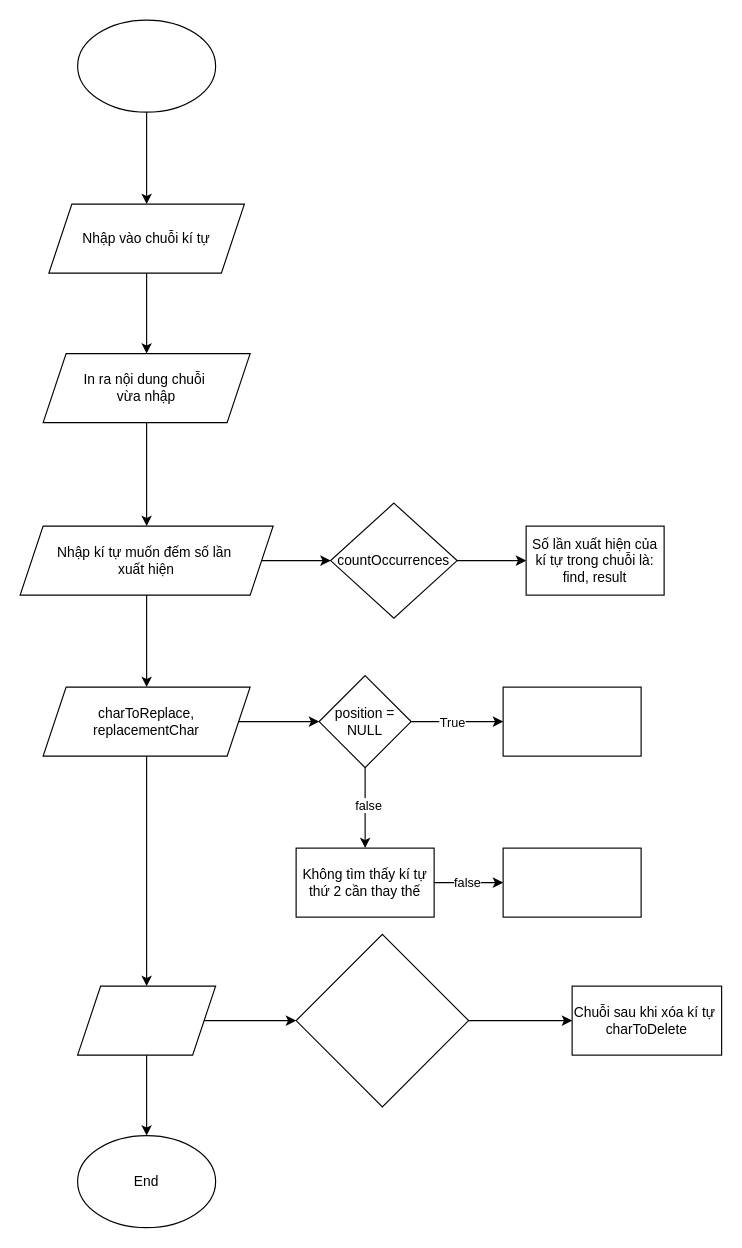
Image size: 742x1248. Some labels were removed from this diagram. Each missing label, with the centre of its shape:
"charToDelete" belongs at (146,1020).
"Chuỗi sau khi thay thế" belongs at (571,721).
"deleteCharacter (input, charToDelete)" belongs at (382,1020).
"Không tìm thấy kí tự cần thay thế" belongs at (571,882).
"start" belongs at (146,65).
